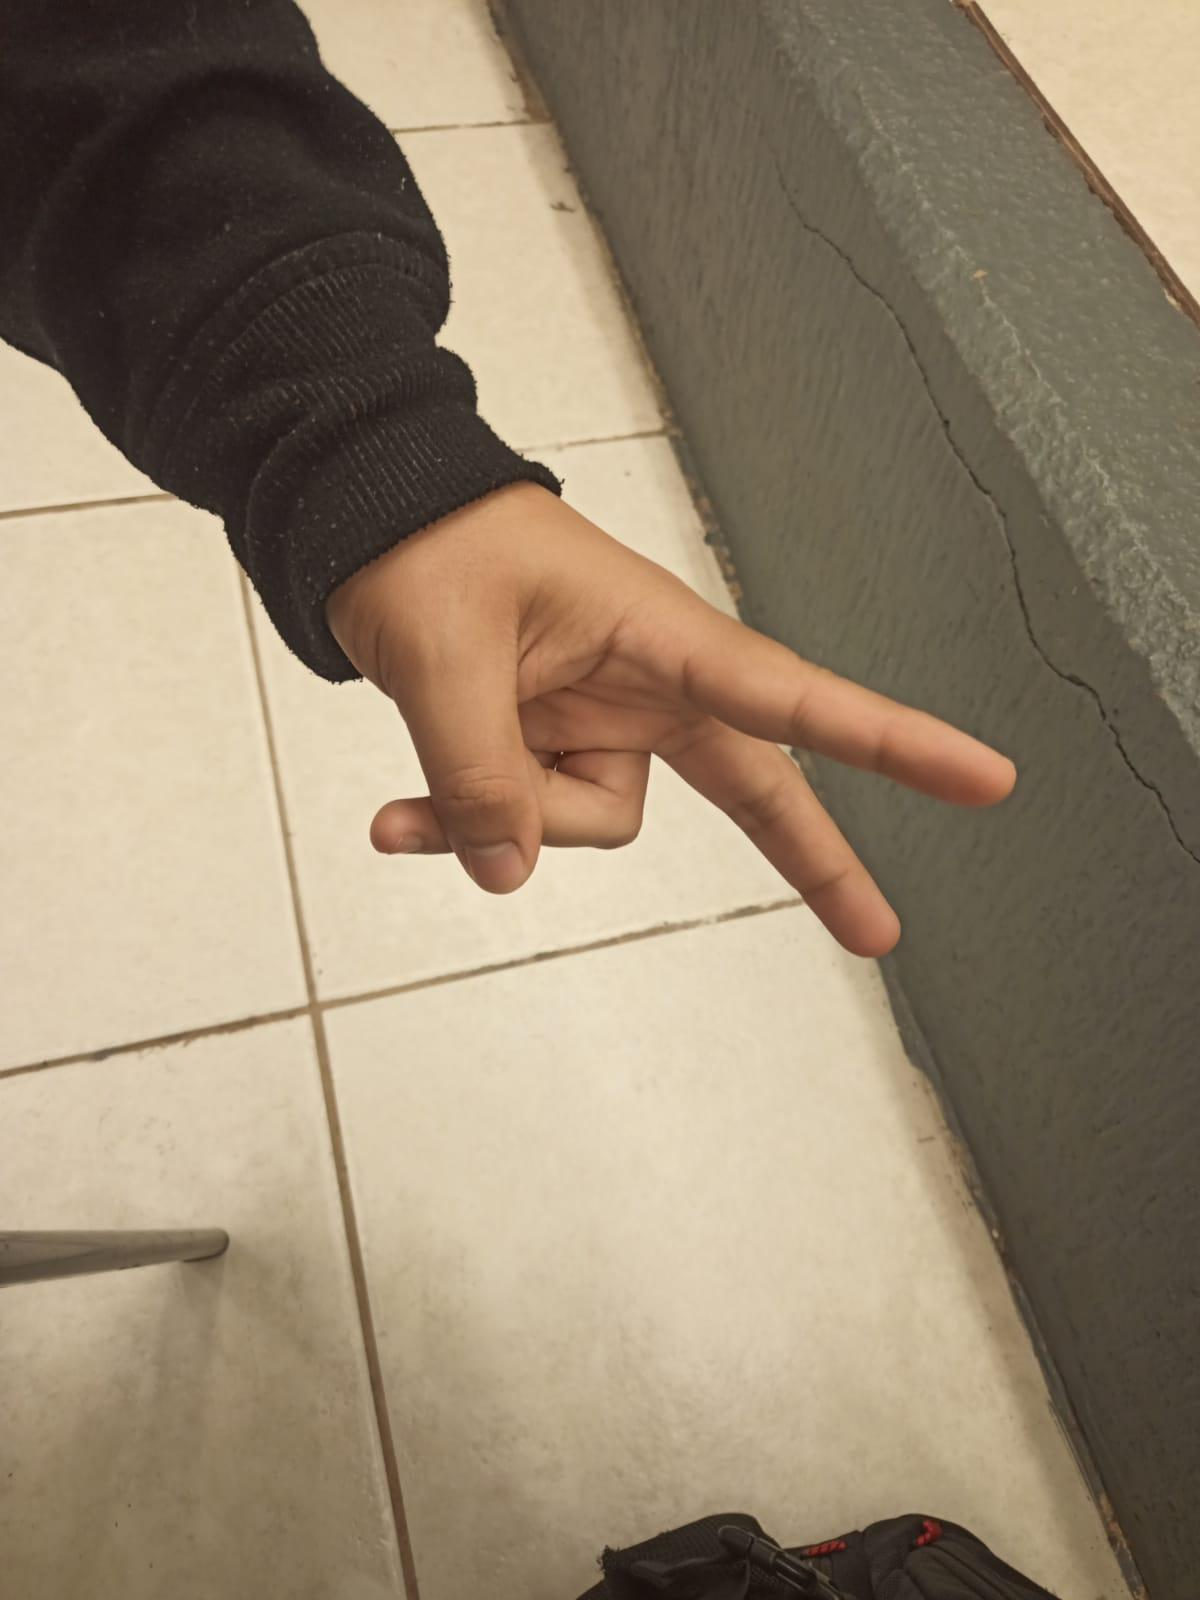Scissor: (301, 466, 1027, 980)
